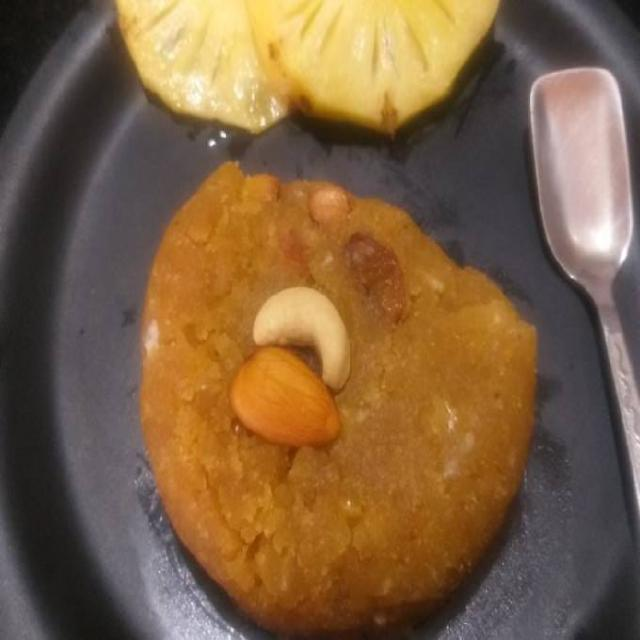kesari bath: (130, 148, 552, 640)
